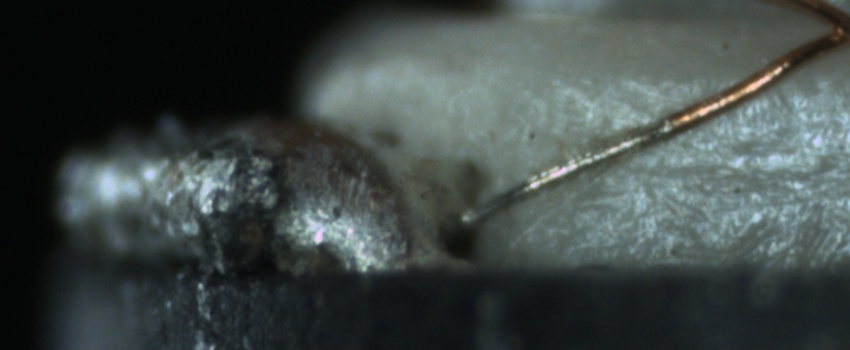CL: (797, 3, 850, 60)
DL: (592, 58, 850, 122), (625, 139, 850, 203)
TS: (448, 119, 671, 240)
